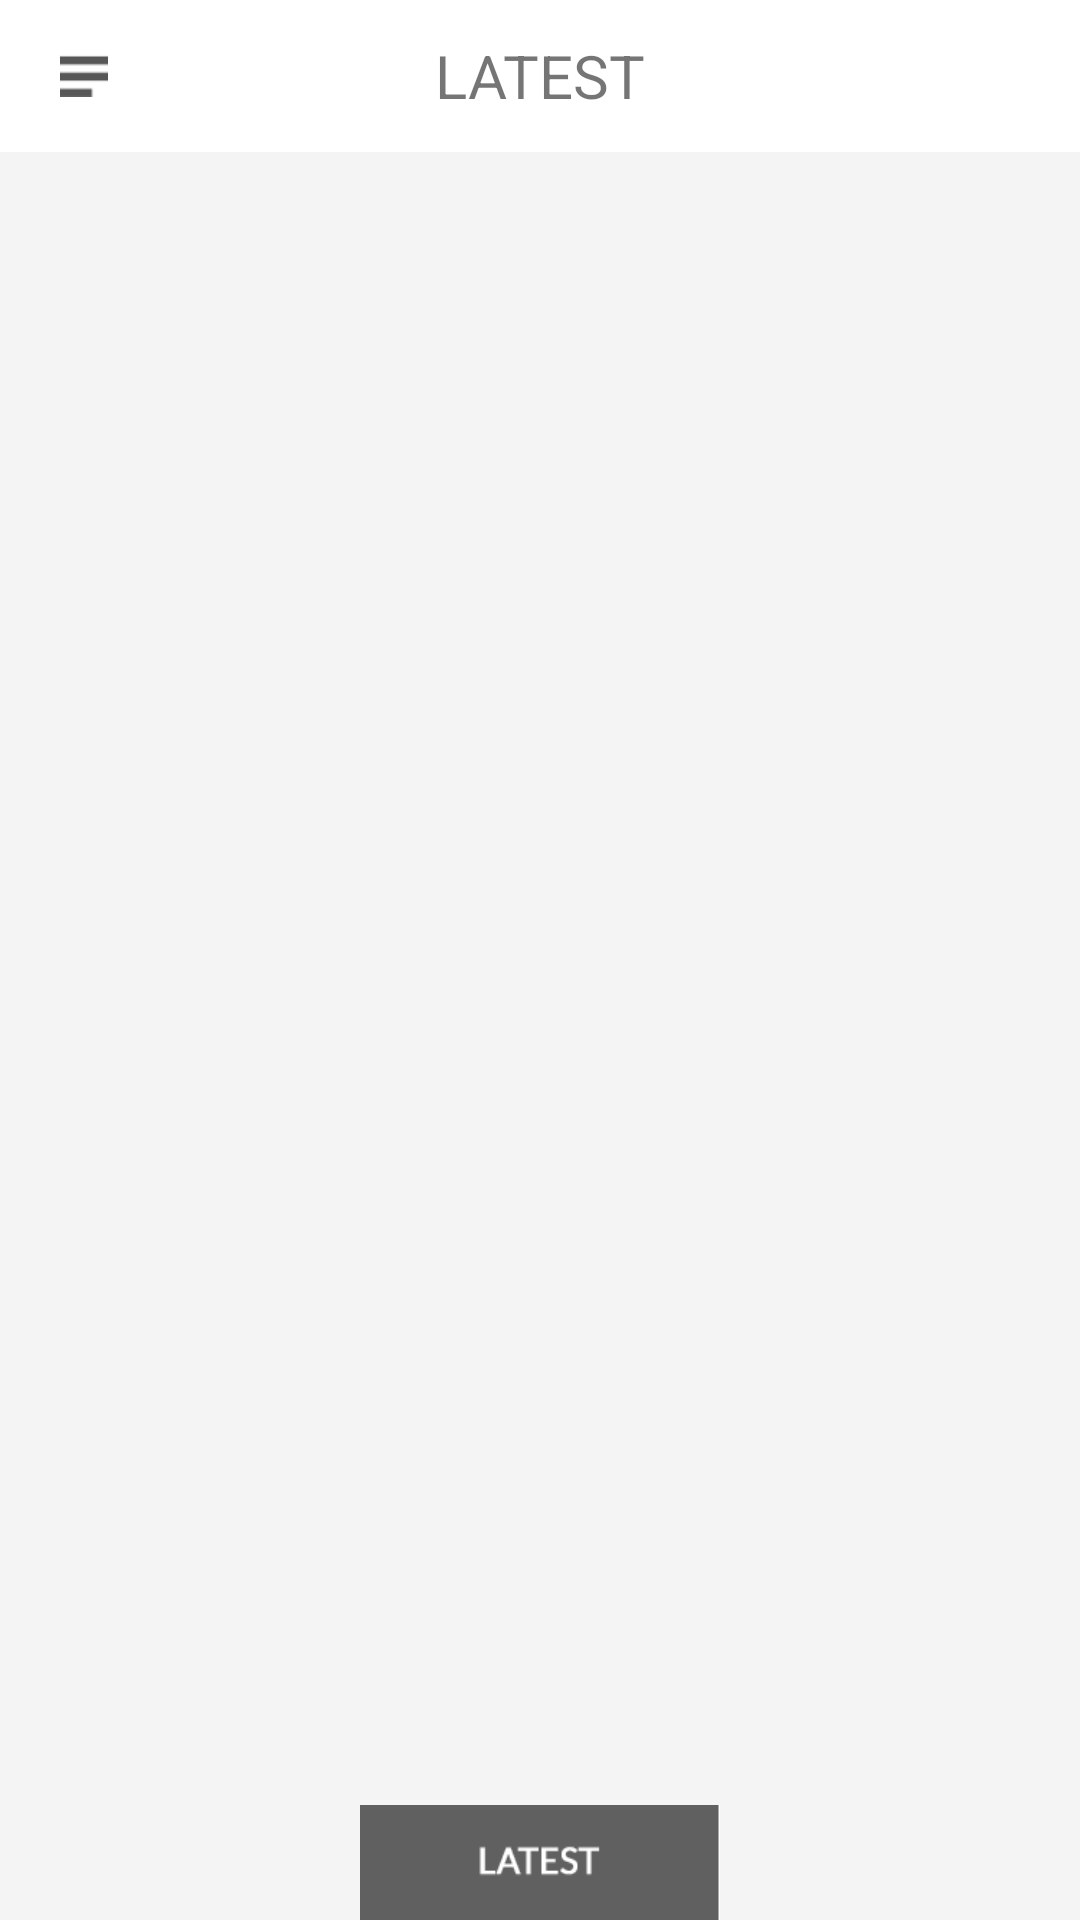

Named icons in this screenshot (1080w x 1920h) and their bounding boxes, (x1, y1, x2, y2):
menu: (60, 56, 108, 97)
